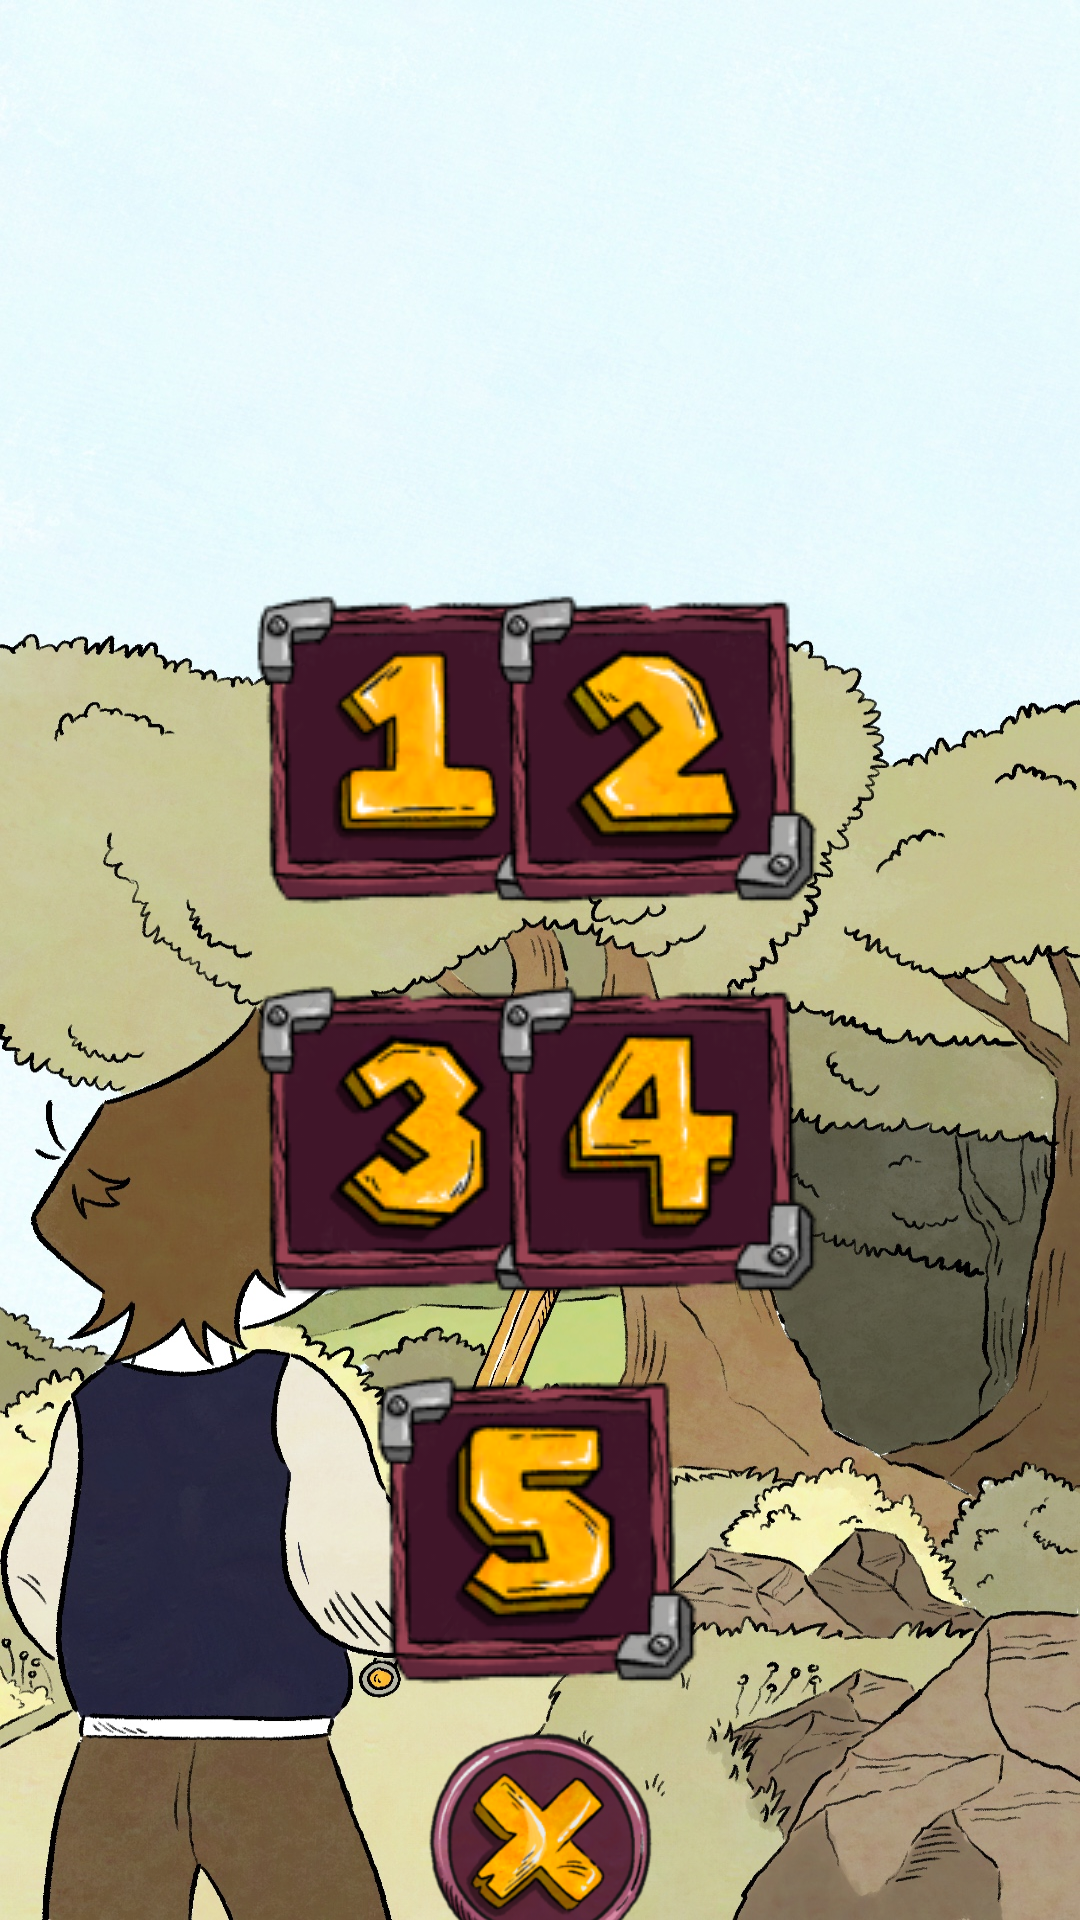

Point at icon controls on the screen. Image size 1080x1920, points as (x=x, y=y).
level: (x=420, y=750), (x=660, y=750), (x=420, y=1140), (x=660, y=1140), (x=540, y=1530)
